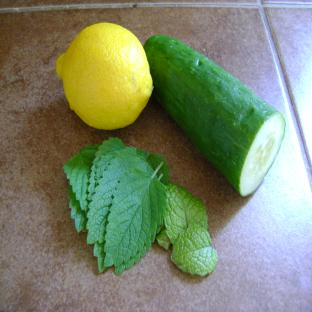Cucumber: (144, 36, 285, 196)
